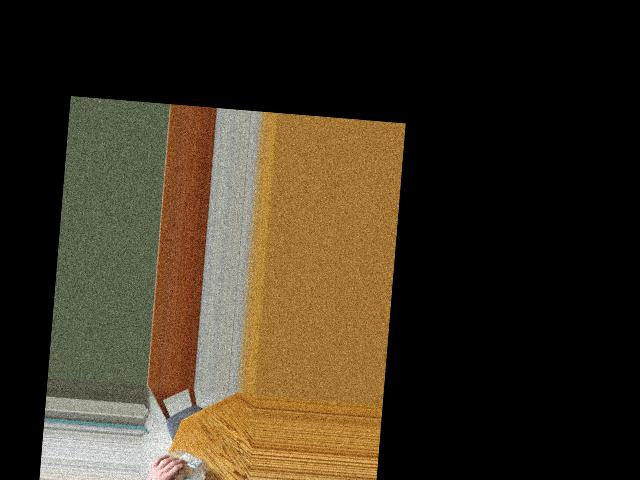cheese: (165, 452, 204, 480)
